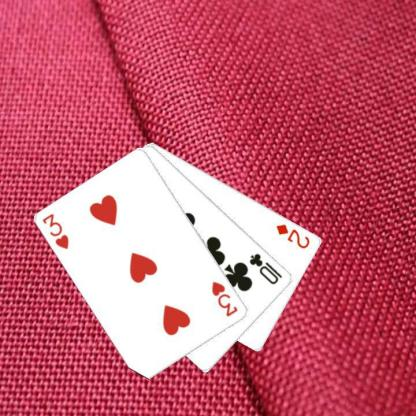10C: (246, 250, 284, 286)
2D: (274, 221, 311, 250)
3H: (209, 278, 239, 318), (40, 211, 70, 251)
